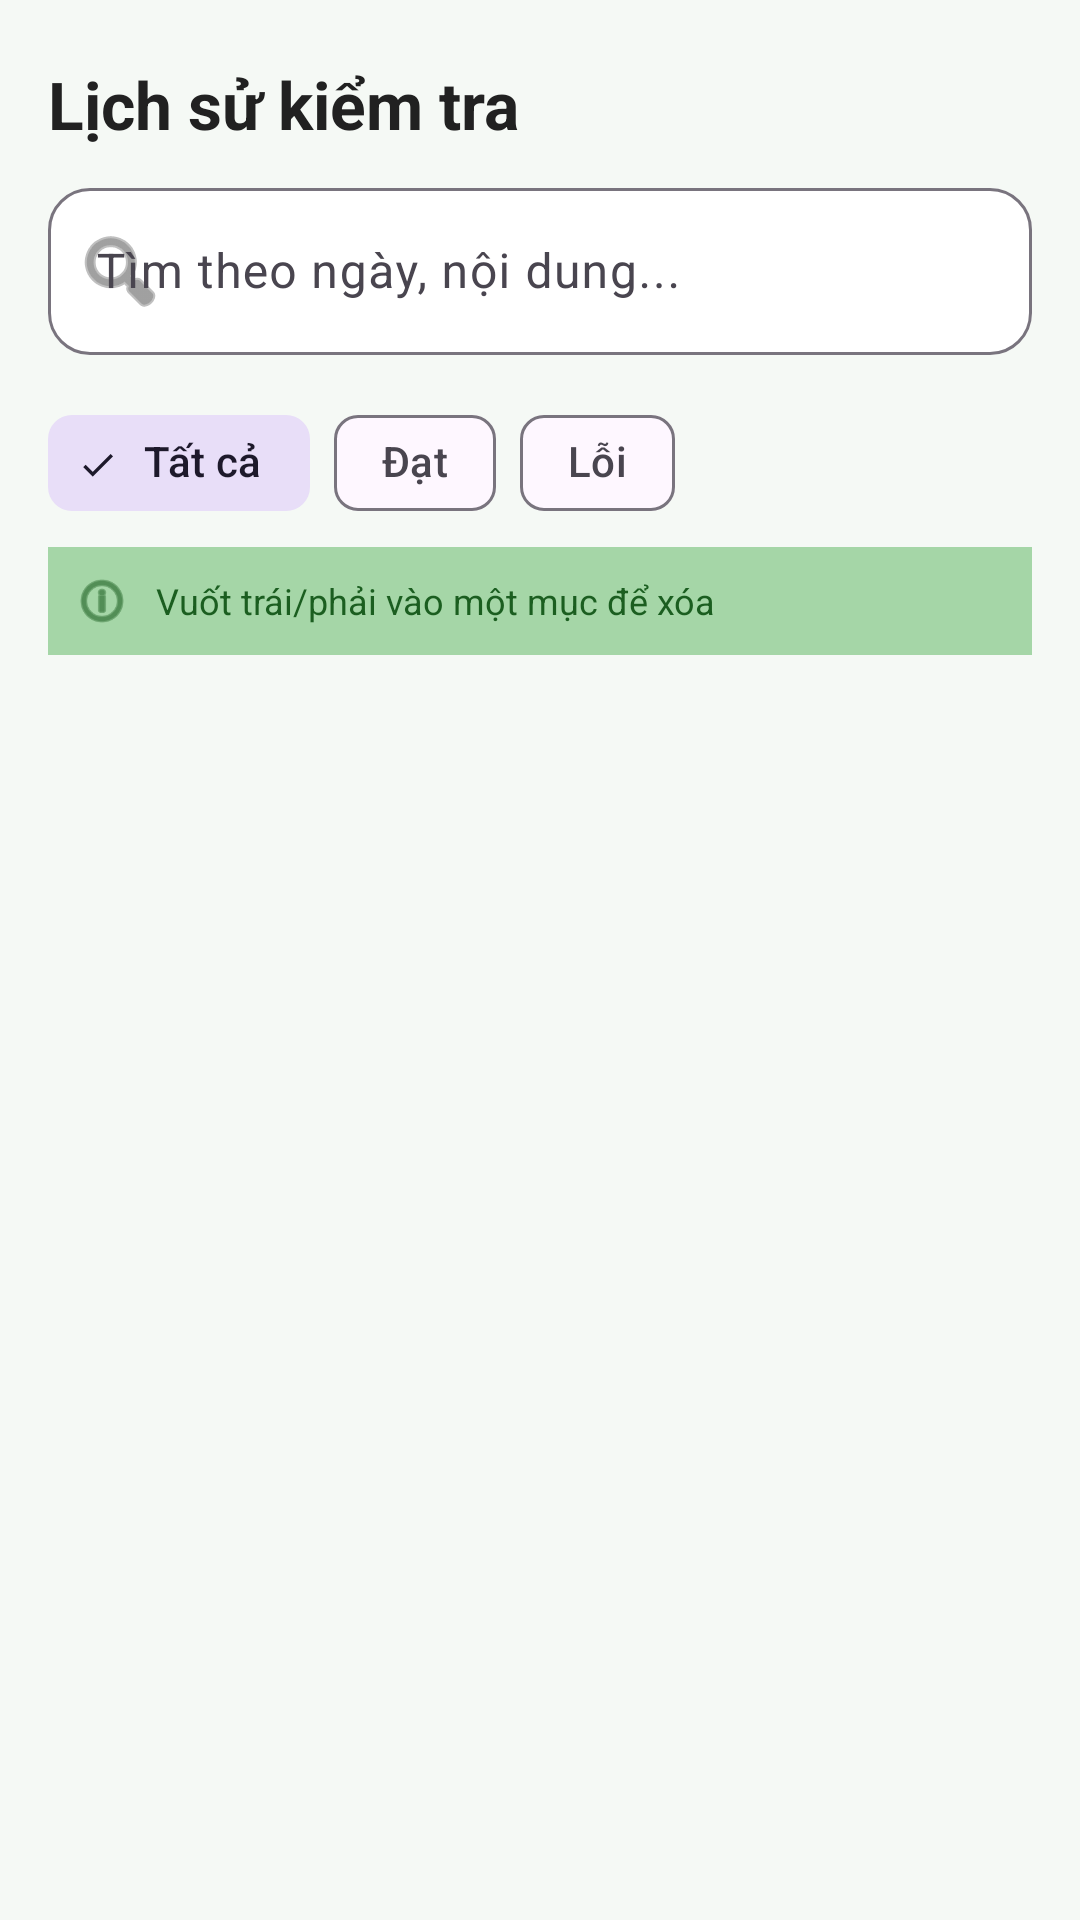

Locate icon controls on the screen. Image size 1080 × 1920, boxes as BBox(x1, y1, x2, y2).
info details: BBox(81, 580, 123, 622)
